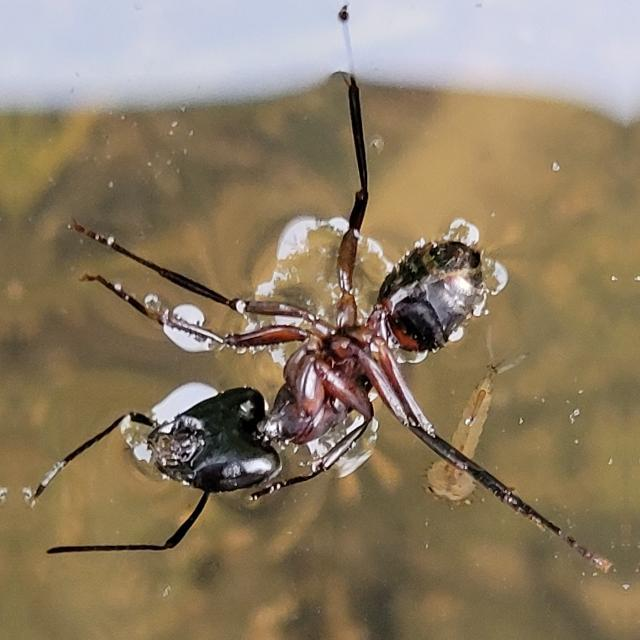Camponotus: (70, 174, 564, 572)
